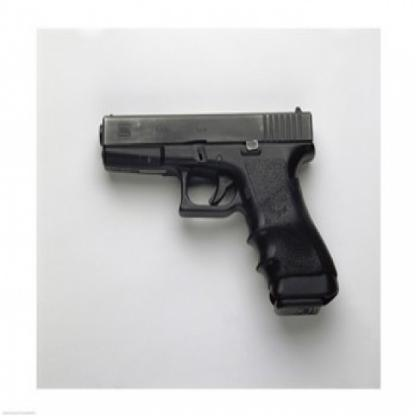Pistol: (96, 105, 338, 318)
